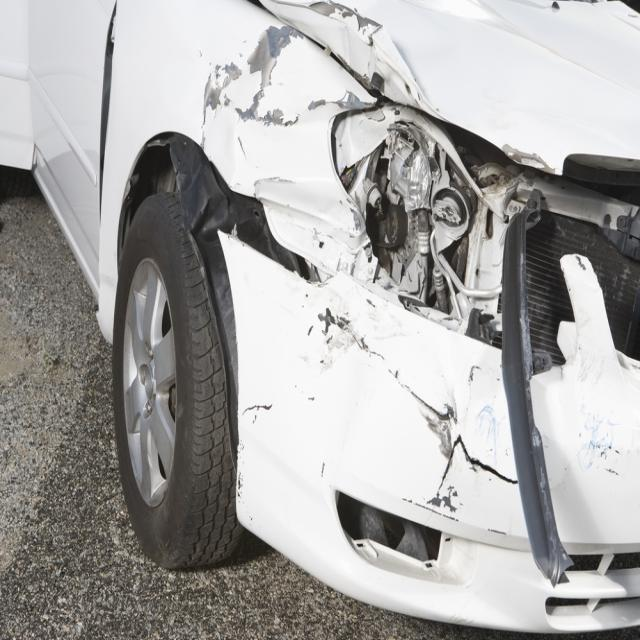crack: (435, 434, 518, 497)
dent: (205, 31, 376, 253), (260, 0, 424, 98)
lamp broken: (369, 114, 537, 340)
scratch: (305, 286, 456, 454)
